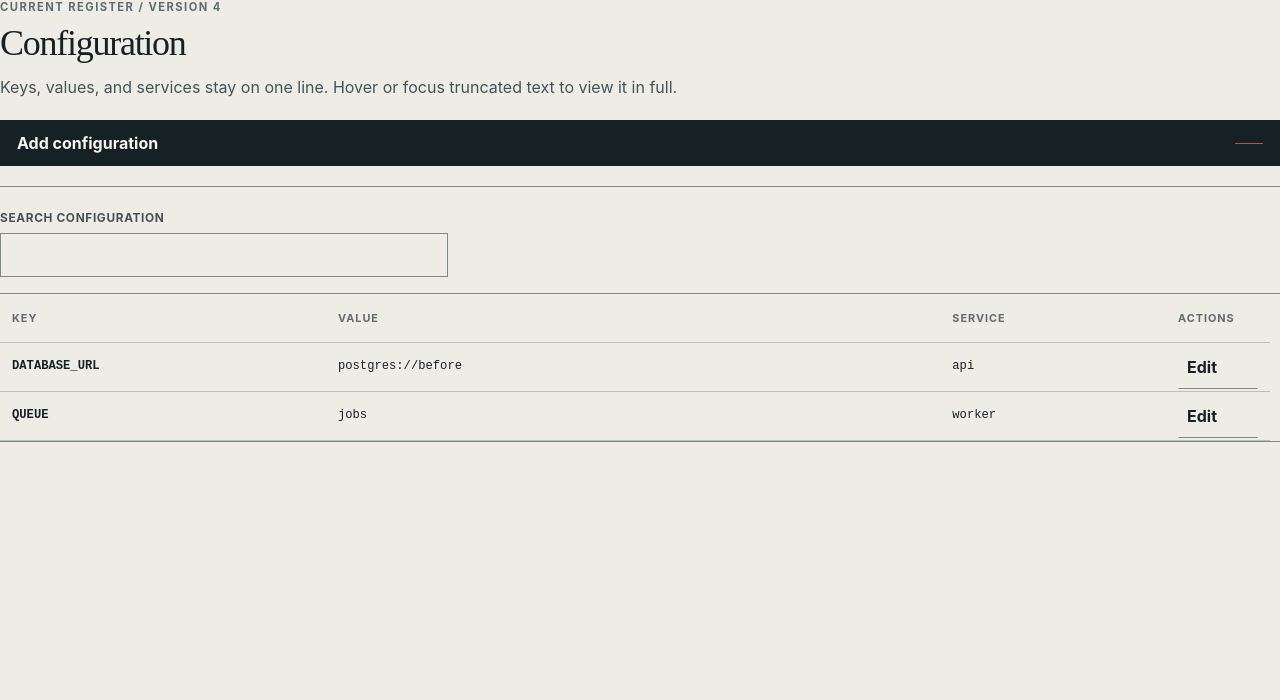
Test: ConfigTable › saves one edited row while preserving the complete configuration snapshot
Click the button with aria-label "Edit DATABASE_URL".
click(1218, 367)  # box [1178,345,1258,389]
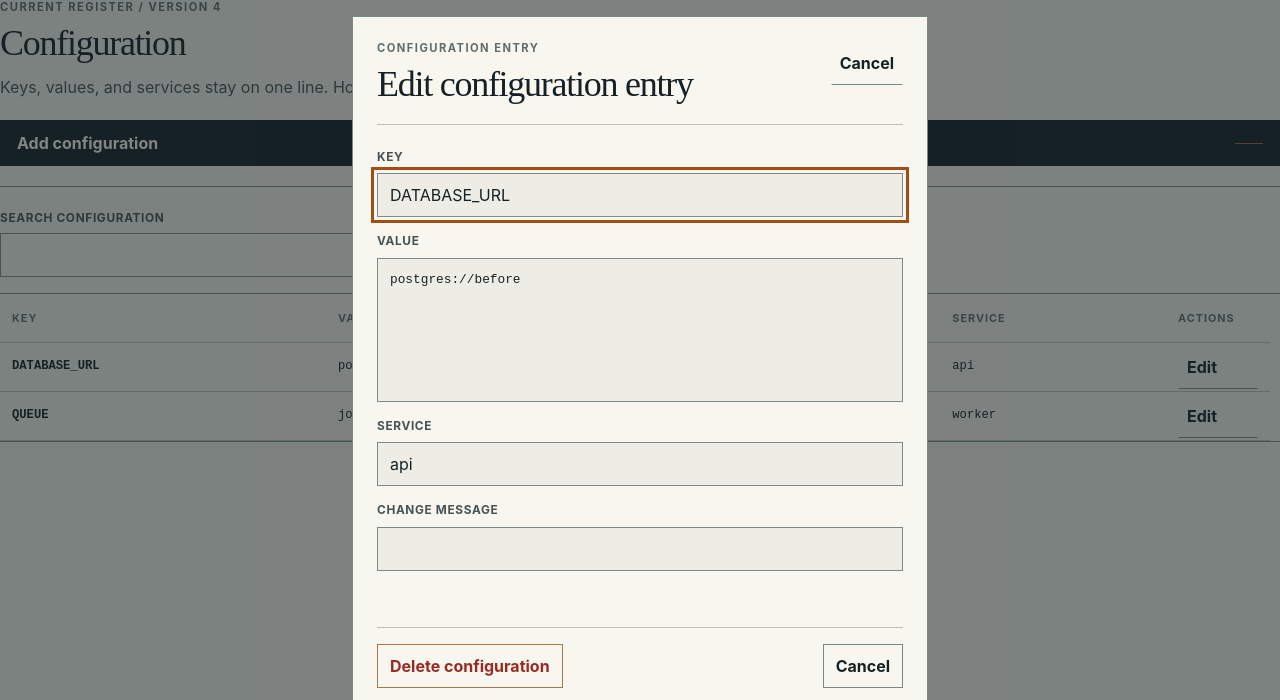
Replace the text in the text box labelled "Value" with "postgres://after" at (640, 330), box [377,258,903,402]
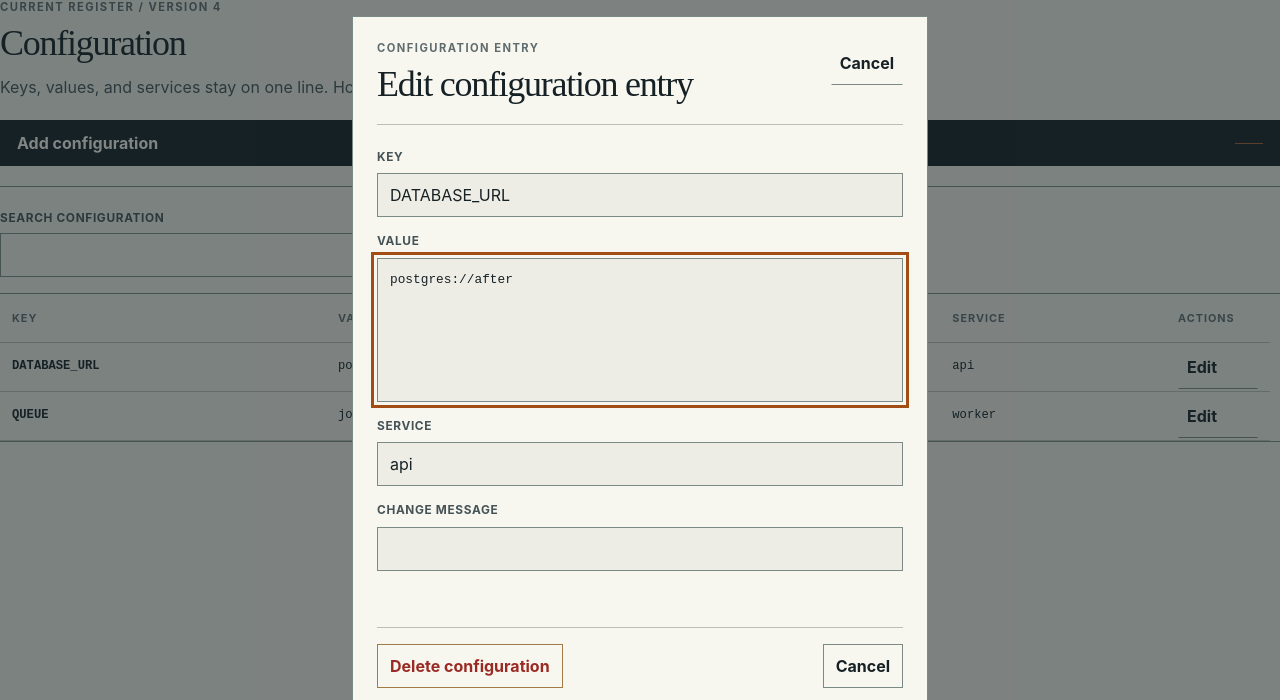
Replace the text in the field labelled "Service" with "backend" at (640, 464), box [377,442,903,486]
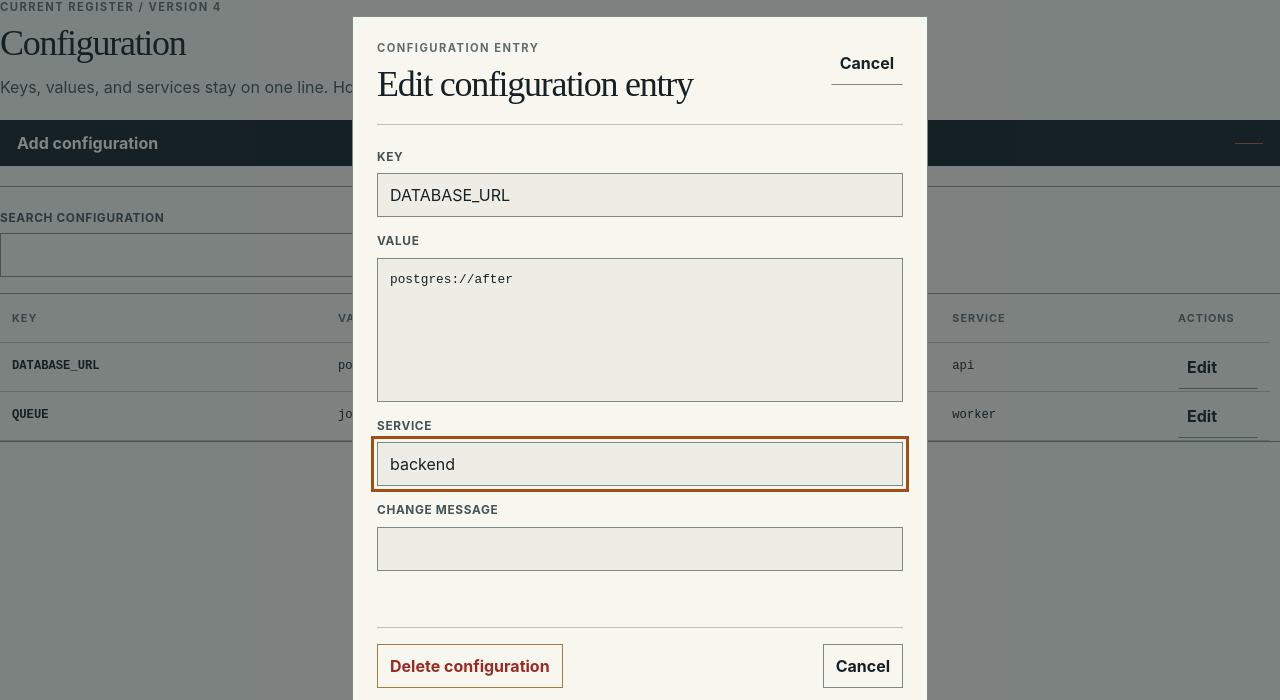
Type "rotate database" into the field labelled "Change message".
click(640, 549); type("rotate database")  # box [377,527,903,571]
(page scrolled)
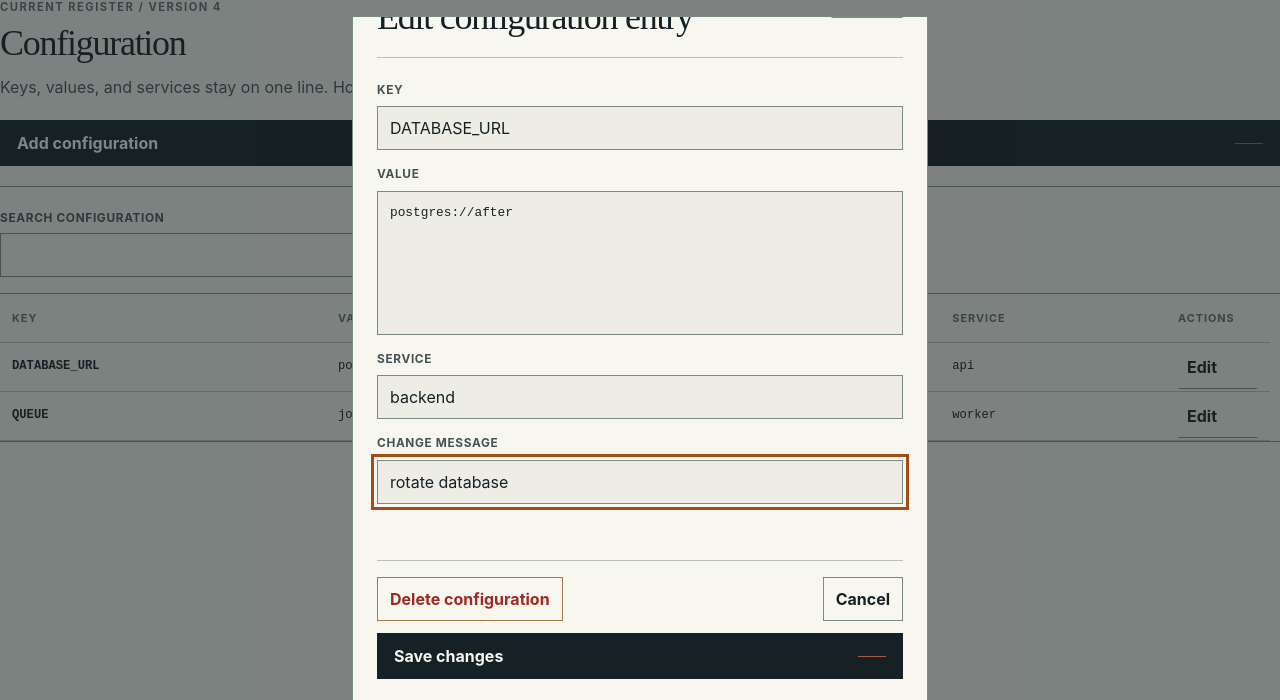
Click the button "Save changes".
click(449, 656)  # box [377,633,903,679]
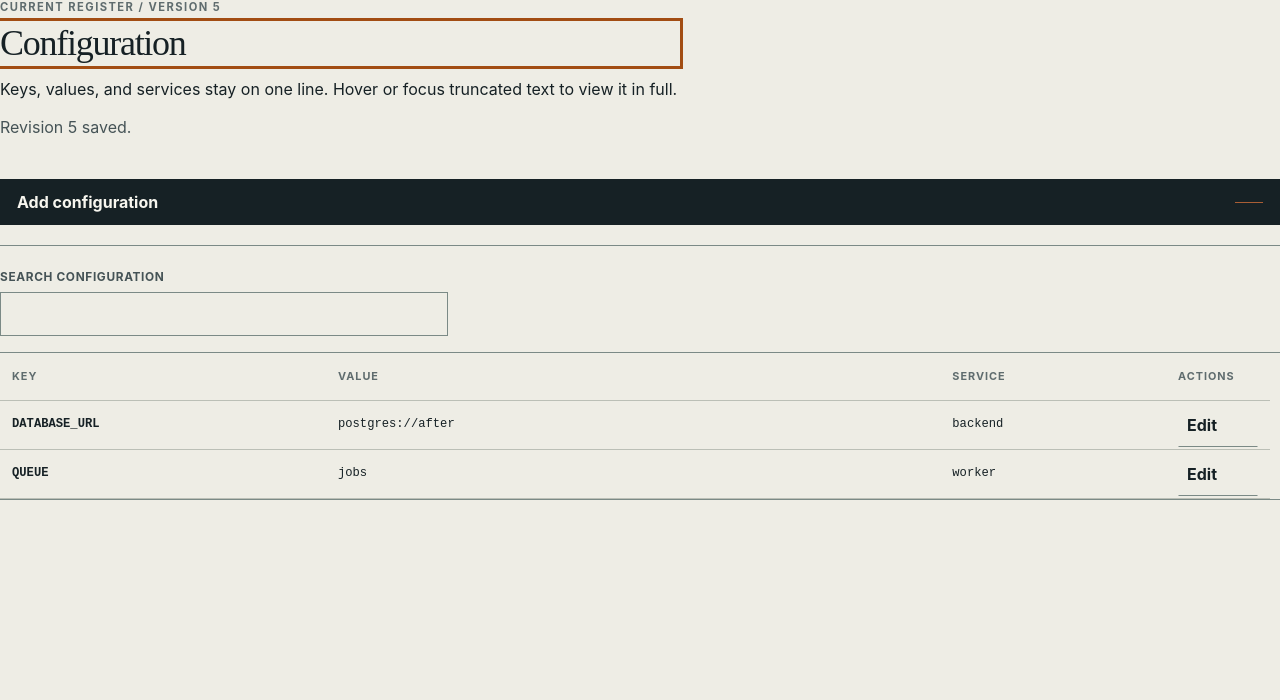
Expected: the text with test id "configuration-value-QUEUE" reads "jobs", [338,466,367,480]
Expected: the text "Revision 5 saved." is shown, [0,116,131,136]
Expected: the text with test id "configuration-value-DATABASE_URL" reads "postgres://after", [338,417,455,431]
